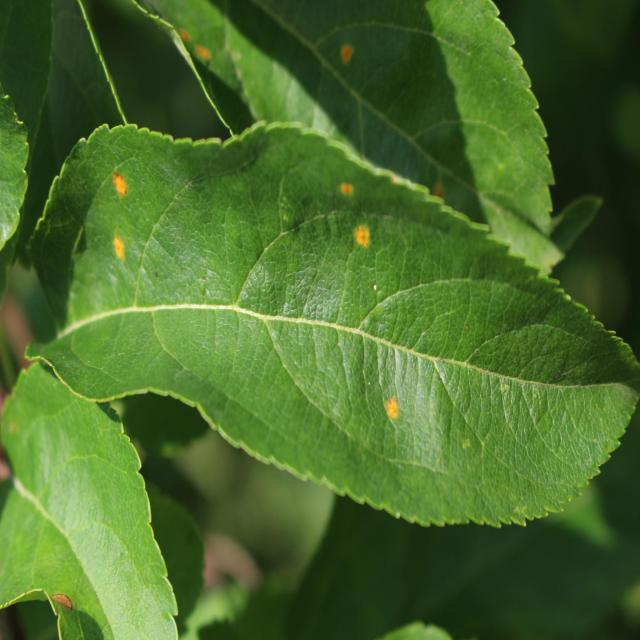Rust: (374, 377, 409, 428), (345, 213, 373, 260), (110, 224, 132, 280), (99, 166, 133, 202), (332, 163, 366, 198)
